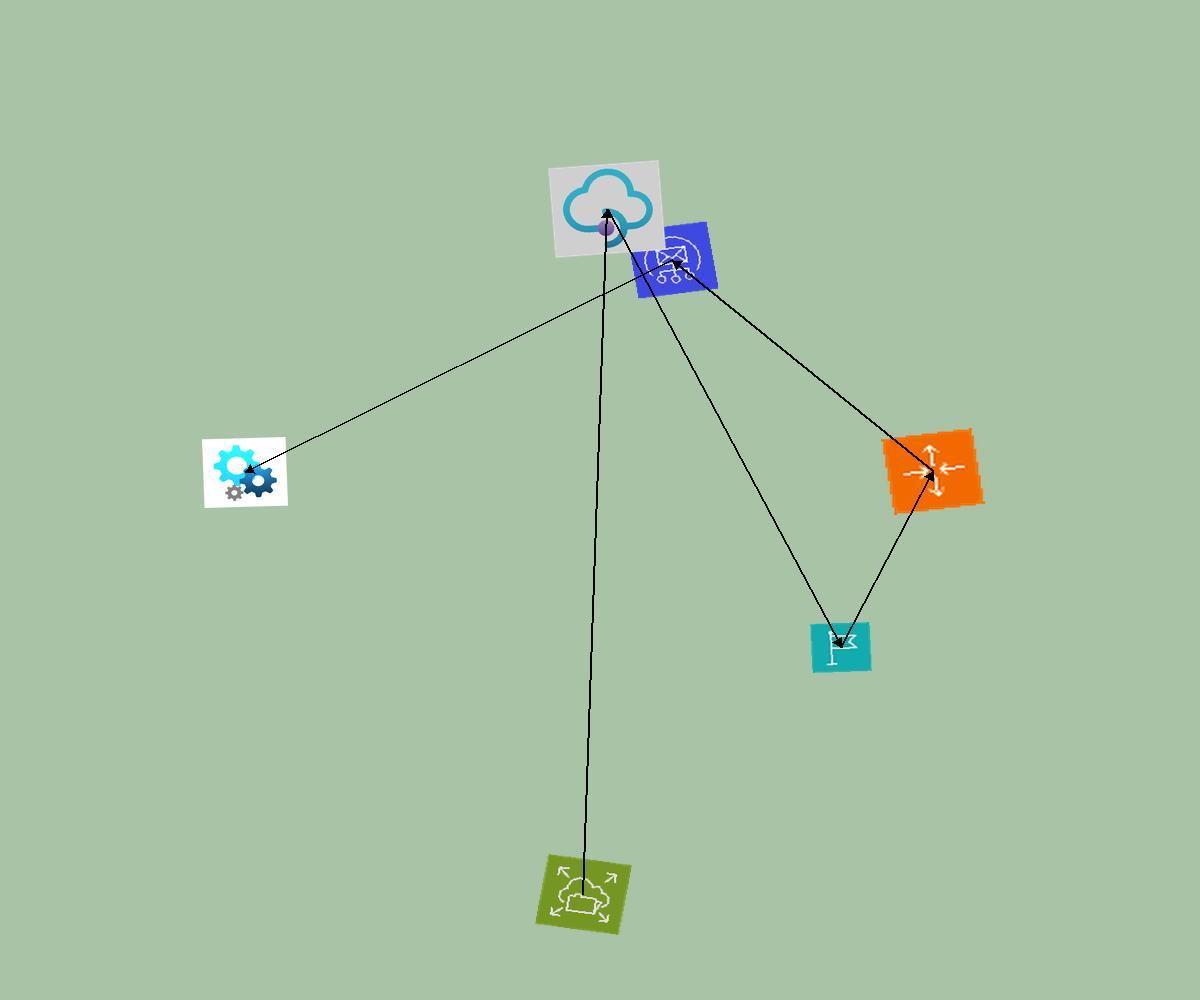AWS-EFS: (535, 854, 632, 935)
AWS-Region: (810, 622, 872, 673)
AWS-Scaling-group: (881, 428, 985, 515)
AWS-Simple-Email-Service: (626, 221, 719, 299)
Azure_api: (202, 437, 288, 508)
Azure_api_gateway: (548, 160, 666, 258)
